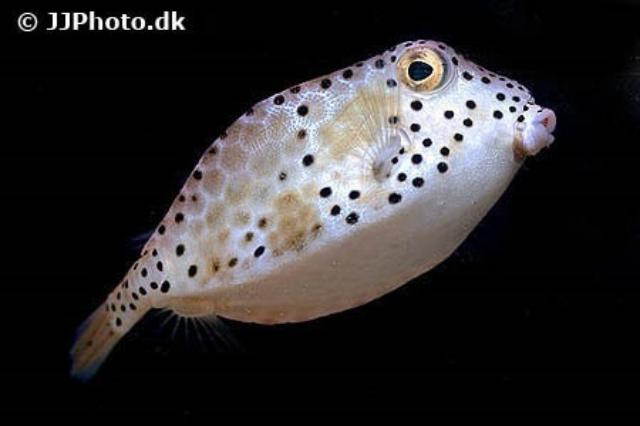Mulut: (502, 80, 586, 180)
Sirip Dada: (290, 69, 412, 218)
Sirip Ekor: (50, 277, 144, 395)
